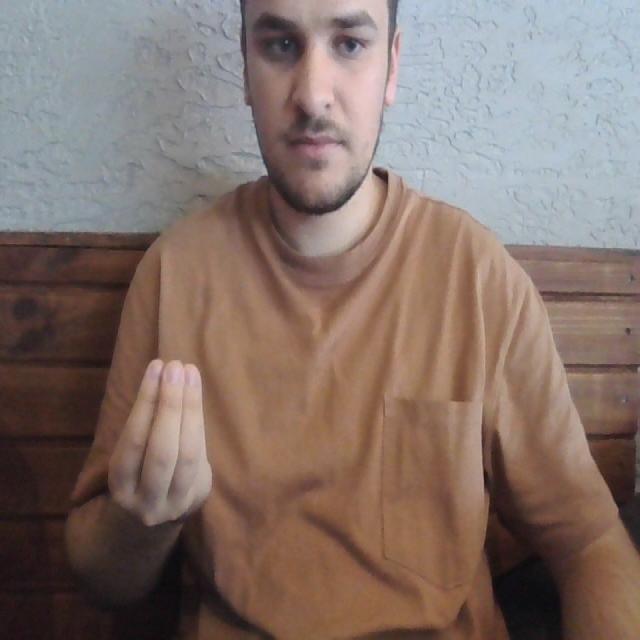iyi: (106, 353, 218, 529)
